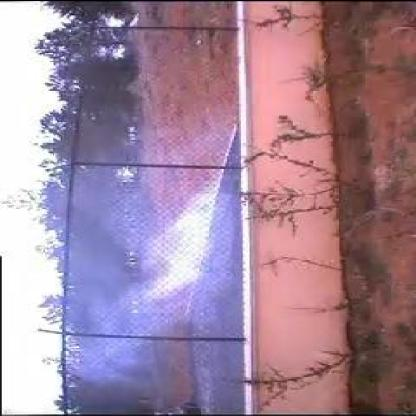-: (74, 164, 242, 338)
